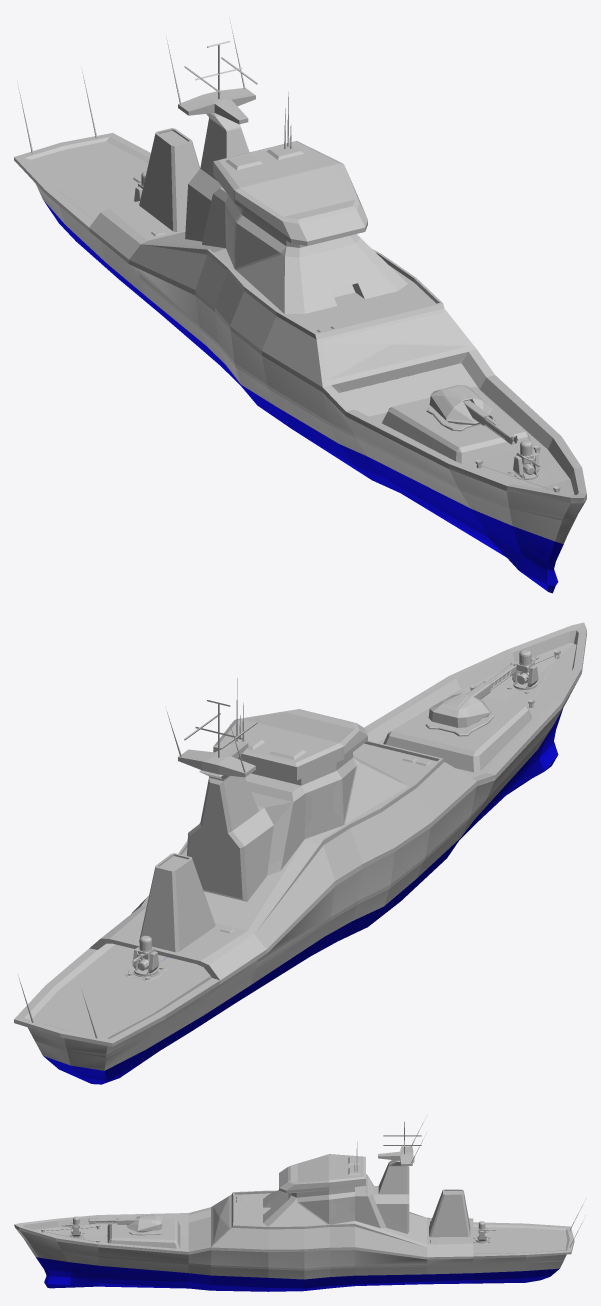
Rendered from middle_modern1.fbx.
The picture shows the model from 3 angles, top to bottom: view 1: azimuth 30°, elevation 25°; view 2: azimuth 150°, elevation 25°; view 3: azimuth 270°, elevation 25°; orthographic projection. The views are drawn at different scales.
Parts seen in each view (by area): view 1: middle_modern1; view 2: middle_modern1; view 3: middle_modern1.
Part boxes in pixels (x1,y1,x2,y2): middle_modern1: [14, 20, 586, 593]; middle_modern1: [14, 622, 586, 1084]; middle_modern1: [14, 1121, 585, 1291].
Bounding box in the file's own units: 860 × 1513 × 4724.
